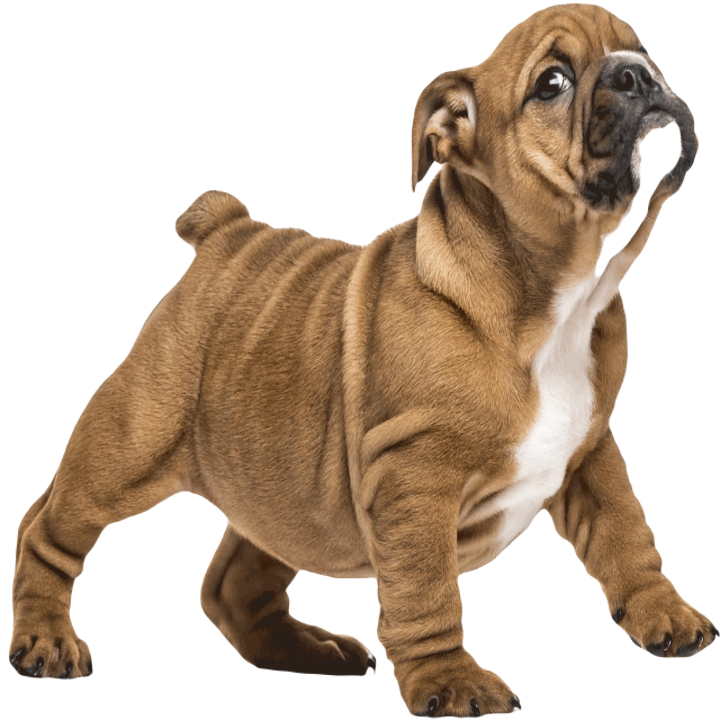Dog: (6, 0, 719, 716)
